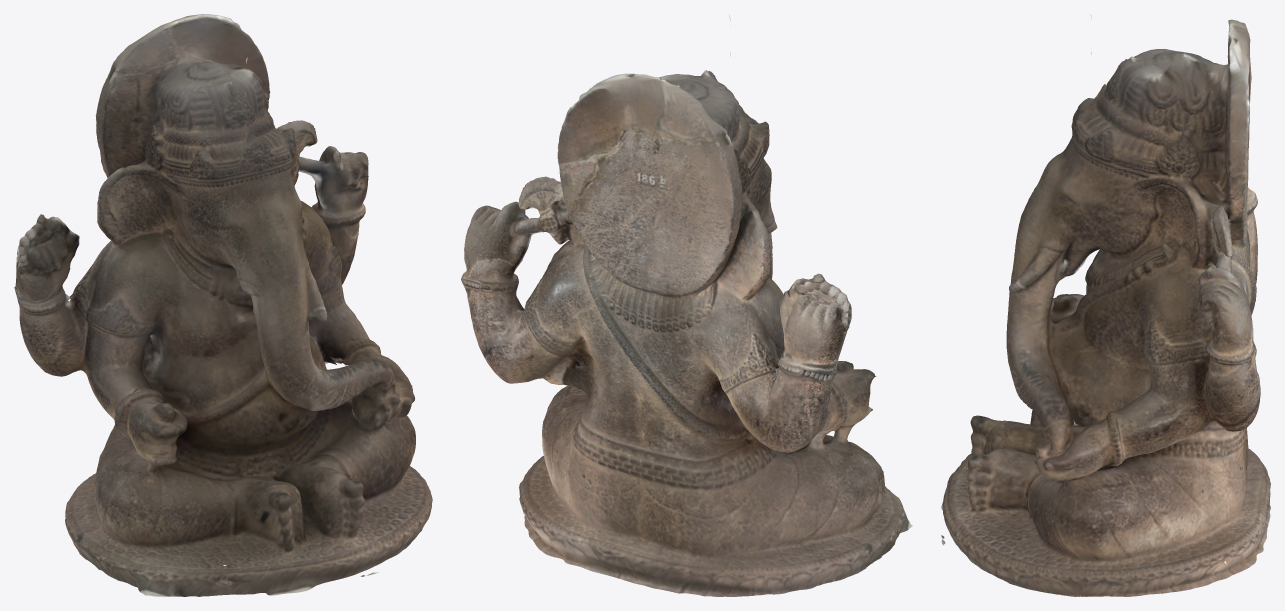
Rendered from ganesh1.glb.
3 views of the same model, side by side, from view 1: azimuth 30°, elevation 25°; view 2: azimuth 150°, elevation 25°; view 3: azimuth 270°, elevation 25° (orthographic). The views are drawn at different scales.
Visible parts, largest first — view 1: Object_3, Object_2, Object_4; view 2: Object_3, Object_2, Object_4; view 3: Object_2, Object_3, Object_4.
Boxes of the visible parts, x1,y1,x2,y2 form: Object_3: (14, 22, 432, 596); Object_2: (16, 14, 415, 596); Object_4: (176, 382, 421, 584); Object_3: (461, 70, 891, 596); Object_2: (461, 14, 912, 591); Object_4: (519, 327, 766, 552); Object_2: (941, 14, 1270, 589); Object_3: (952, 19, 1270, 596); Object_4: (941, 243, 1256, 590).
Bounding box in the file's own units: 1.12 × 1.44 × 0.8612.
1 material, 1 textured.
